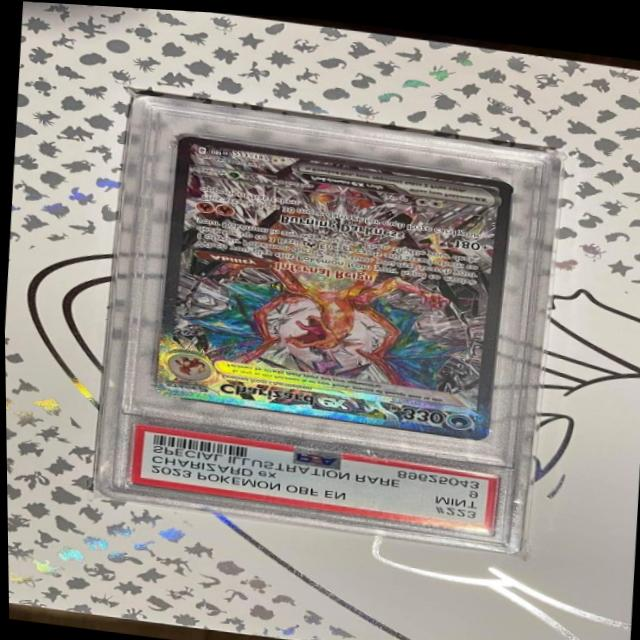card: (152, 128, 516, 433)
